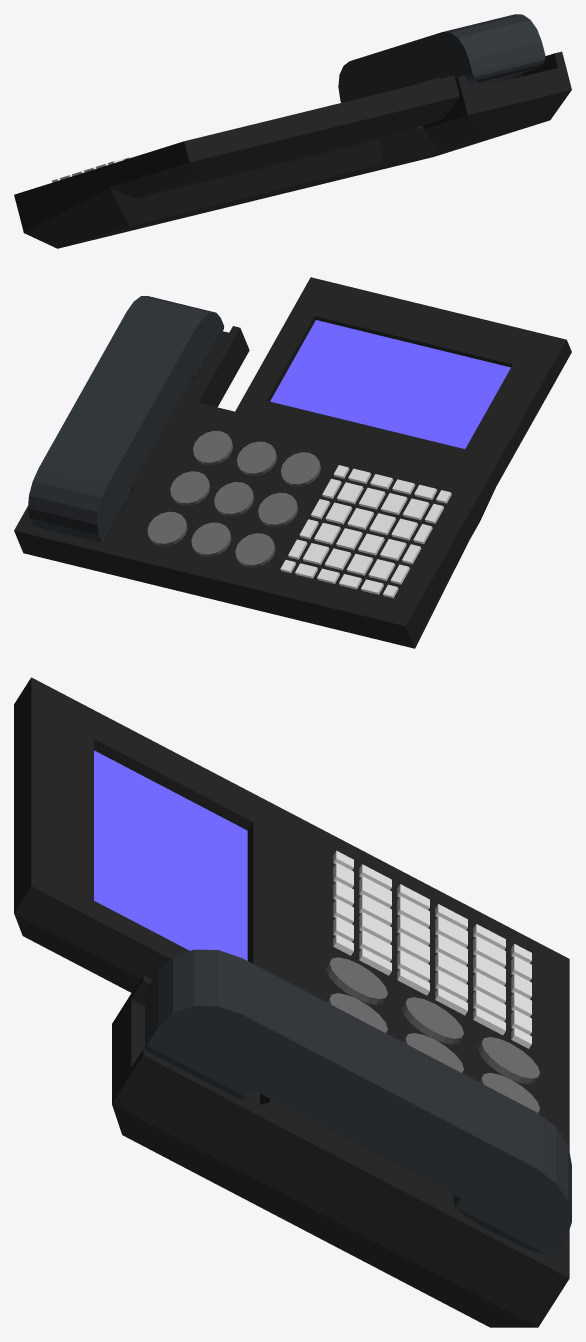
Rendered from phone.glb.
3 renders of one model, top to bottom at view 1: azimuth 30°, elevation 25°; view 2: azimuth 150°, elevation 25°; view 3: azimuth 270°, elevation 25°, orthographic. The views are drawn at different scales.
Parts seen in each view (by area): view 1: Cube, Cube.001; view 2: Cube, Cube.001; view 3: Cube, Cube.001.
Part boxes in pixels (box(x1,y1,x2,y2)): Cube: box(14, 51, 571, 248); Cube.001: box(338, 14, 545, 102); Cube: box(14, 277, 571, 648); Cube.001: box(28, 296, 224, 542); Cube: box(14, 677, 569, 1327); Cube.001: box(145, 949, 571, 1258).
Bounding box in the file's own units: 0.2674 × 0.1348 × 0.1974.
